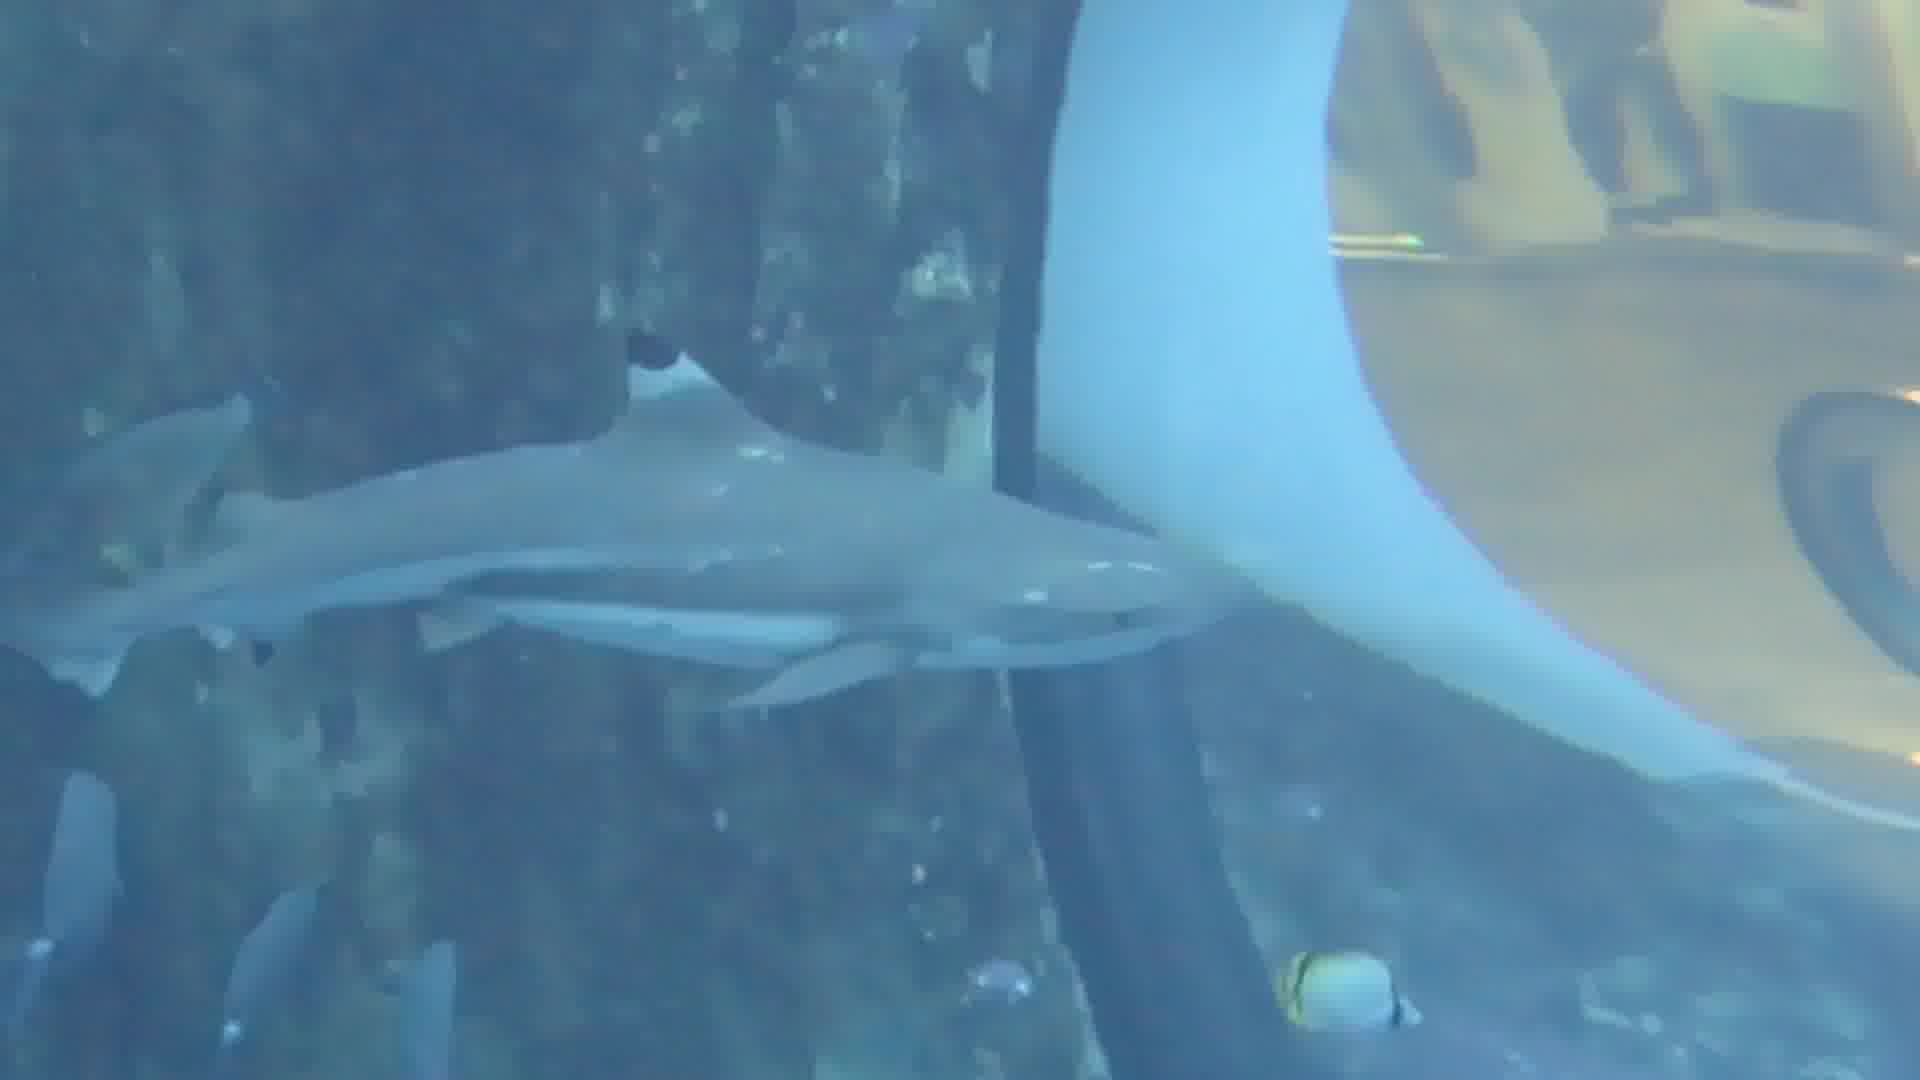Carcharhinus melanopterus: (28, 313, 1262, 761)
